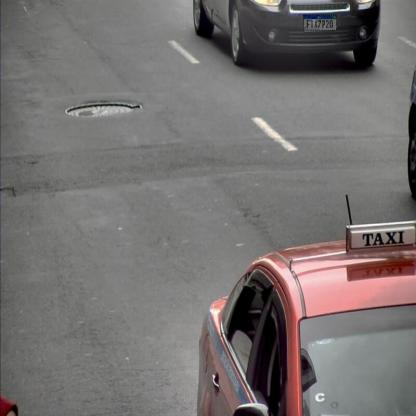PlacaM: (303, 14, 337, 30)
